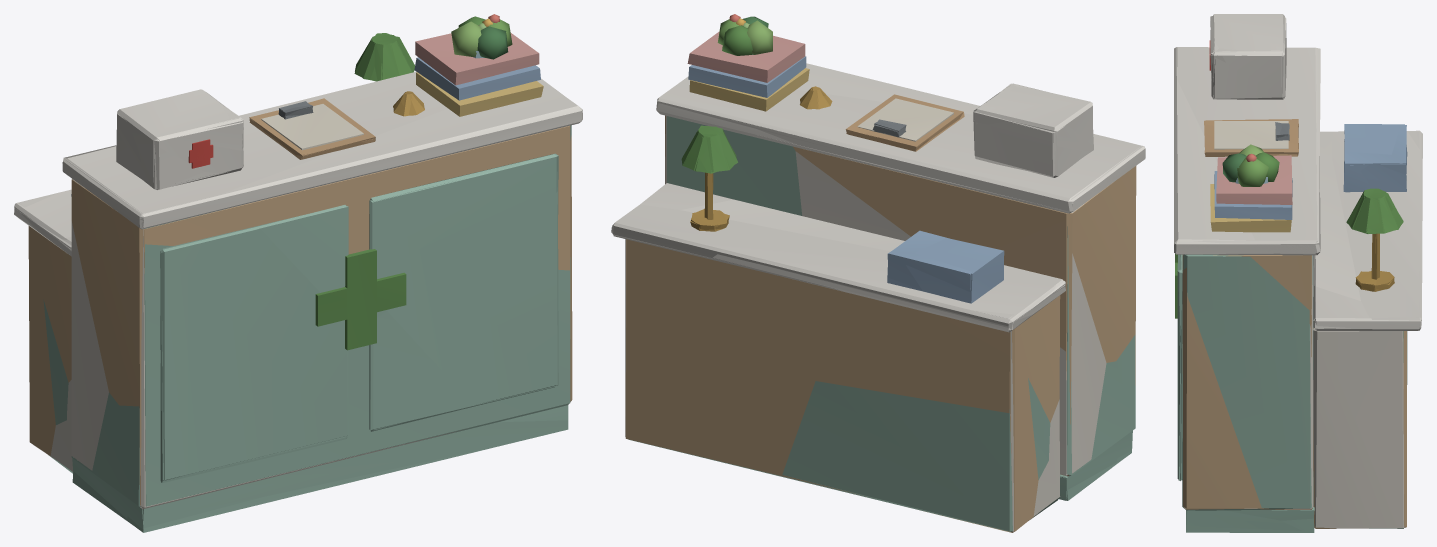
Rendered from clinic.desk.glb.
The picture shows the model from 3 angles, left to right: view 1: azimuth 30°, elevation 25°; view 2: azimuth 150°, elevation 25°; view 3: azimuth 270°, elevation 25°; orthographic projection. The views are drawn at different scales.
Parts seen in each view (by area): view 1: clinic.desk.v1.mesh, clinic.desk.v2.mesh, clinic.desk.v0.mesh; view 2: clinic.desk.v2.mesh, clinic.desk.v1.mesh, clinic.desk.v0.mesh; view 3: clinic.desk.v1.mesh, clinic.desk.v2.mesh, clinic.desk.v0.mesh.
Boxes of the visible parts, left/top/right/bottom form: clinic.desk.v1.mesh: left=43, top=14, right=582, bottom=524; clinic.desk.v2.mesh: left=14, top=33, right=582, bottom=532; clinic.desk.v0.mesh: left=14, top=16, right=582, bottom=532; clinic.desk.v2.mesh: left=611, top=31, right=1141, bottom=532; clinic.desk.v1.mesh: left=611, top=14, right=1145, bottom=531; clinic.desk.v0.mesh: left=612, top=16, right=1144, bottom=531; clinic.desk.v1.mesh: left=1174, top=14, right=1421, bottom=532; clinic.desk.v2.mesh: left=1175, top=16, right=1420, bottom=528; clinic.desk.v0.mesh: left=1174, top=16, right=1422, bottom=532.
Size of the model in its own units: 1.5 by 1.29 by 0.8038.
